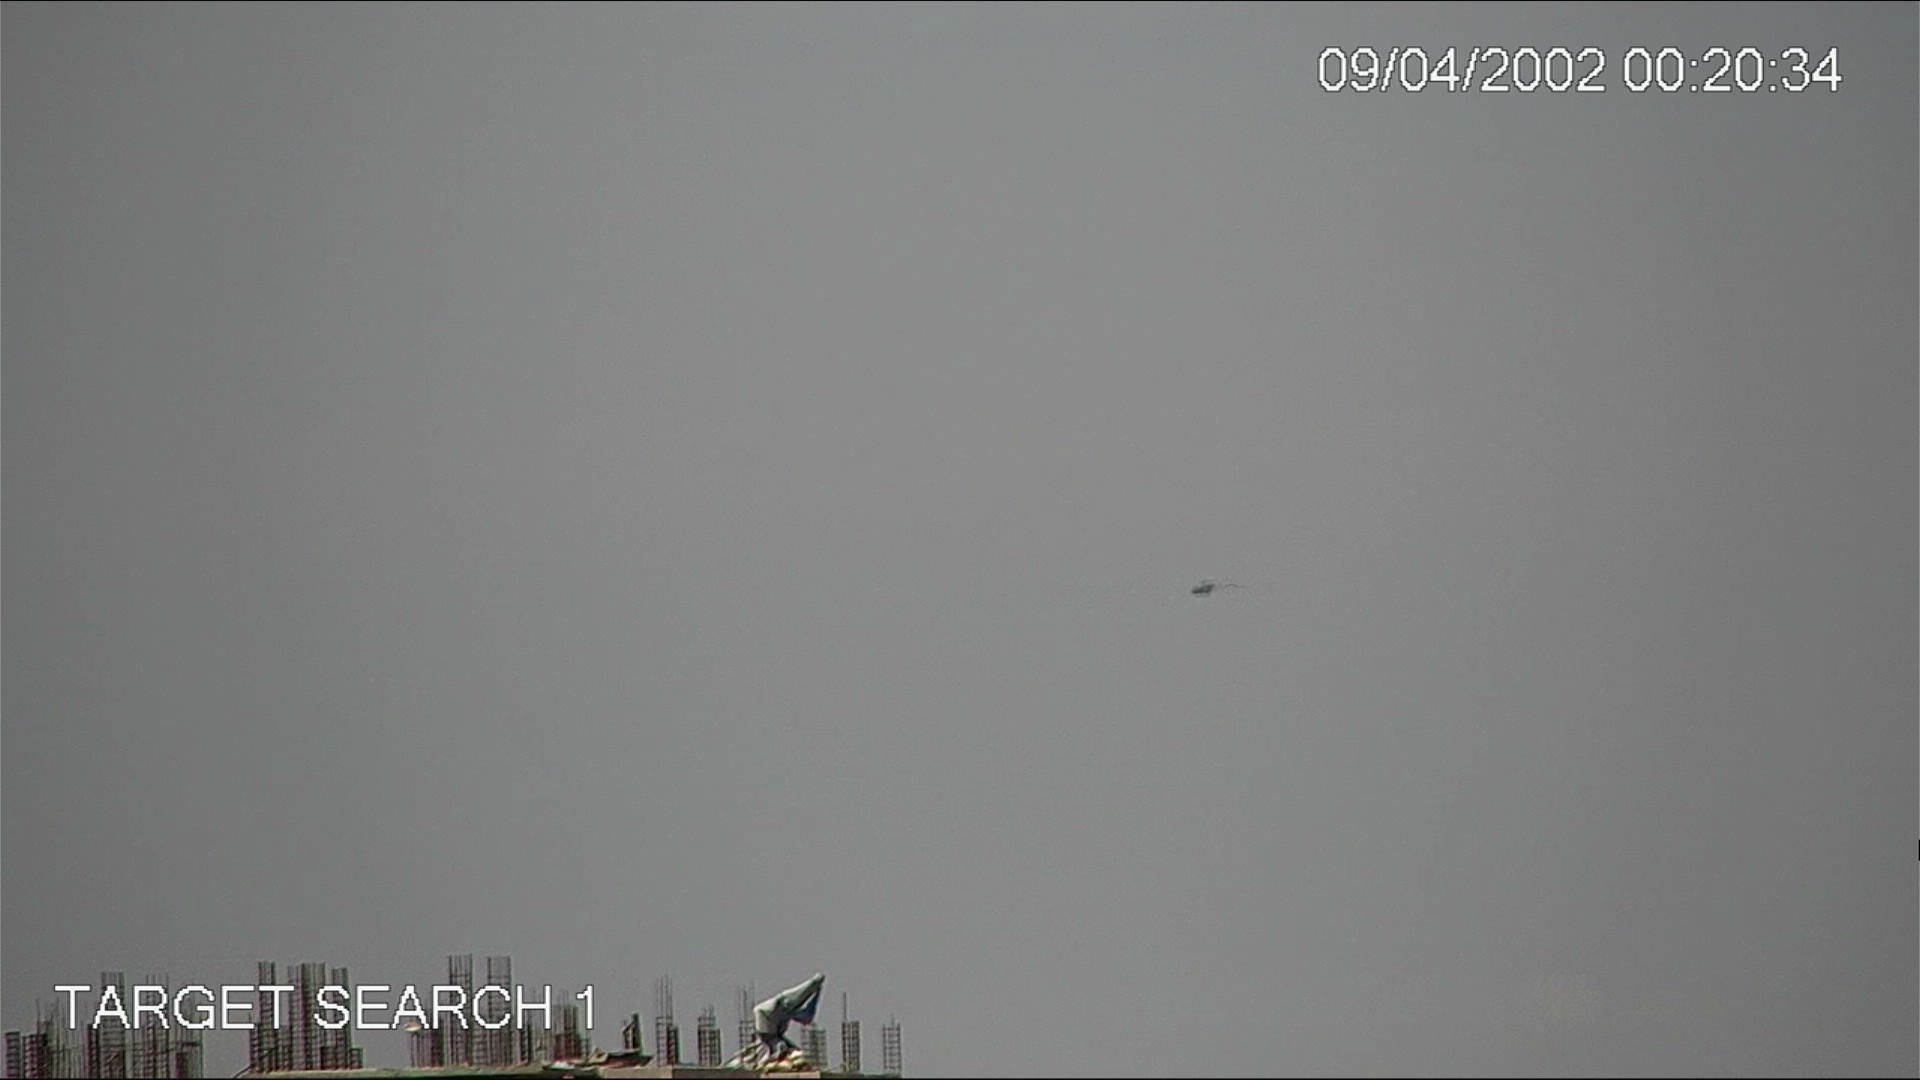SU_30: (1185, 579, 1216, 599)
